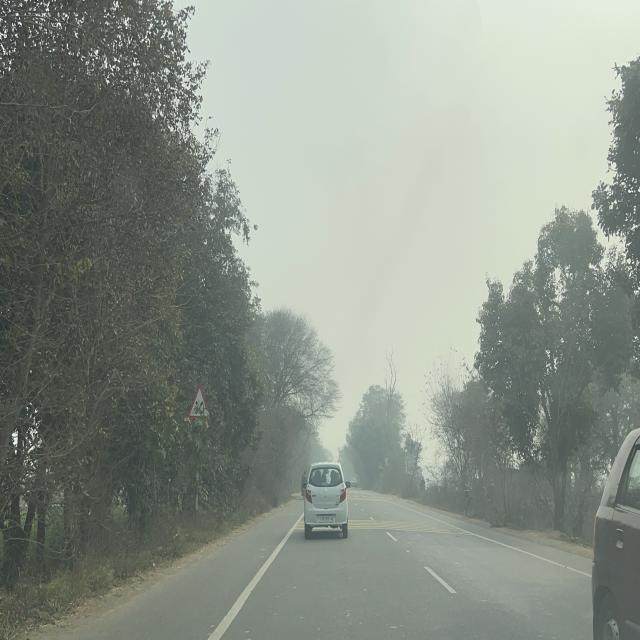CROSS_ROAD: (187, 383, 211, 424)
